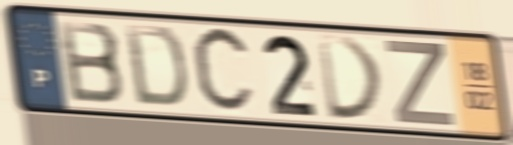2: (261, 32, 319, 119)
B: (55, 18, 128, 108)
C: (189, 23, 258, 119)
D: (313, 32, 388, 123), (121, 21, 190, 111)
Z: (382, 37, 459, 129)
